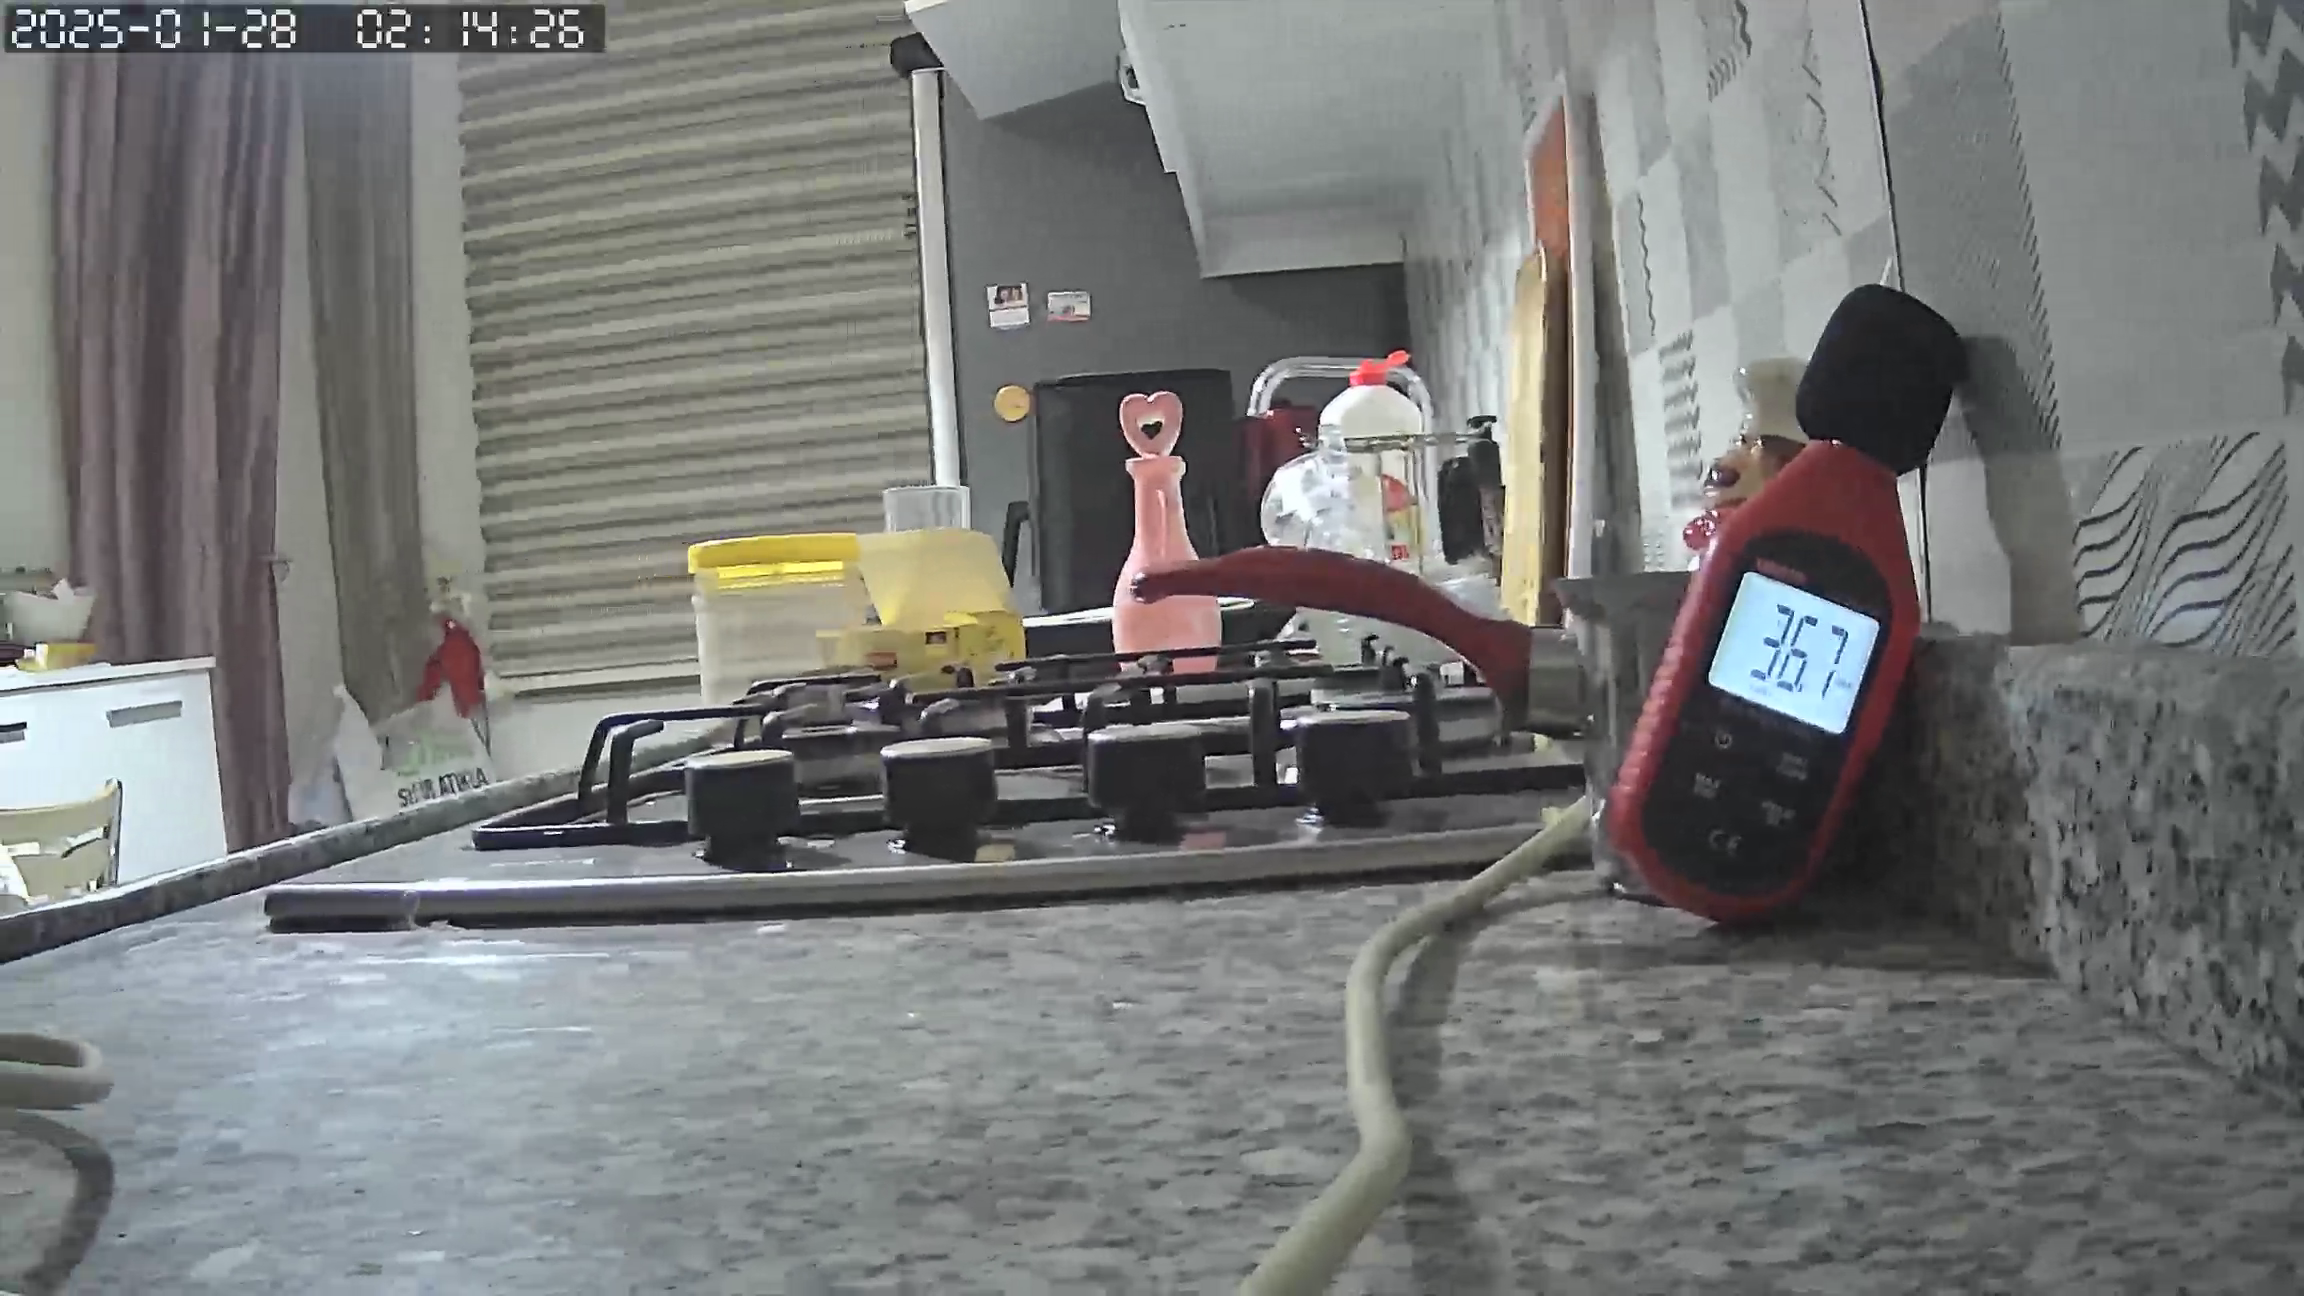screen: (1714, 573, 1877, 736)
